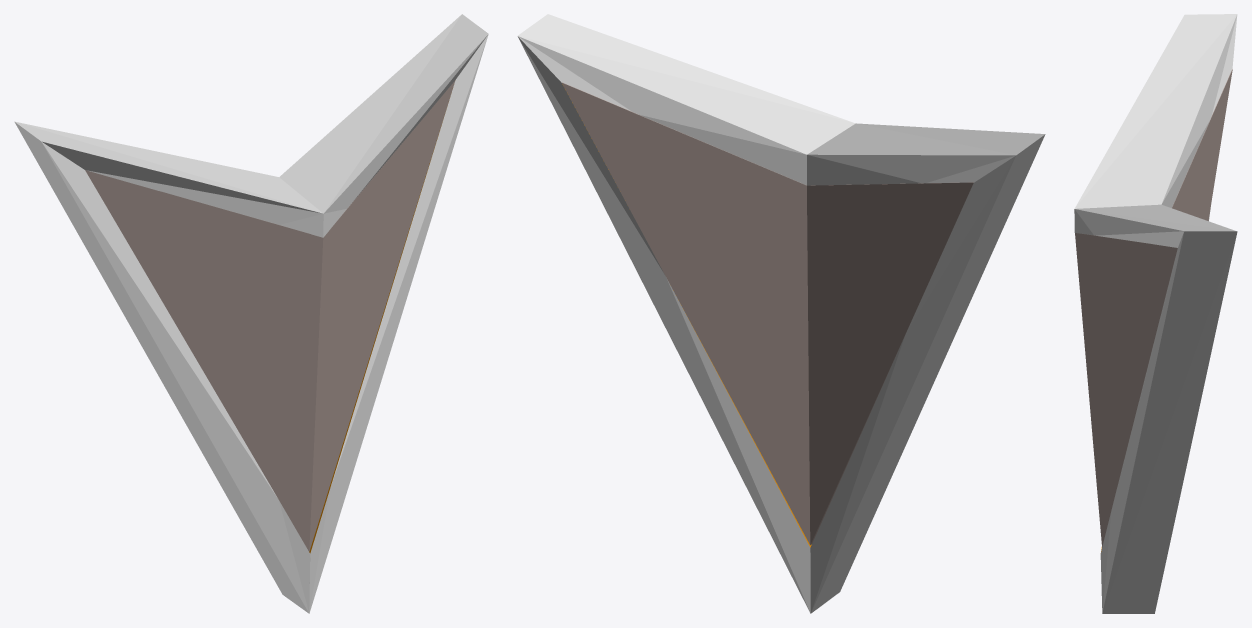
File: Drone3DKO.dae
3 renders of one model, left to right at view 1: azimuth 30°, elevation 25°; view 2: azimuth 150°, elevation 25°; view 3: azimuth 270°, elevation 25°, orthographic. The views are drawn at different scales.
Visible parts, largest first — view 1: Cube.001, Cube.003; view 2: Cube.001, Cube.003; view 3: Cube.003, Cube.001.
Boxes of the visible parts, x1,y1,x2,y2 form: Cube.001: (85,80,455,551); Cube.003: (14,14,488,613); Cube.001: (561,82,973,545); Cube.003: (517,14,1045,613); Cube.003: (1074,14,1237,613); Cube.001: (1075,69,1232,547).
Size of the model in its own units: 3.28 by 1.05 by 3.49.
